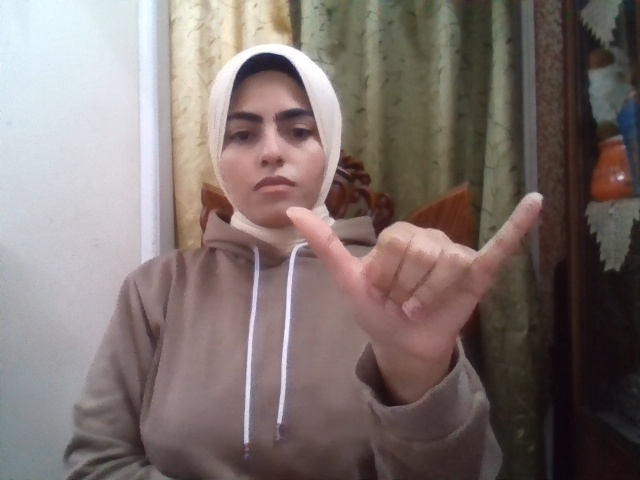Y: (286, 192, 543, 365)
